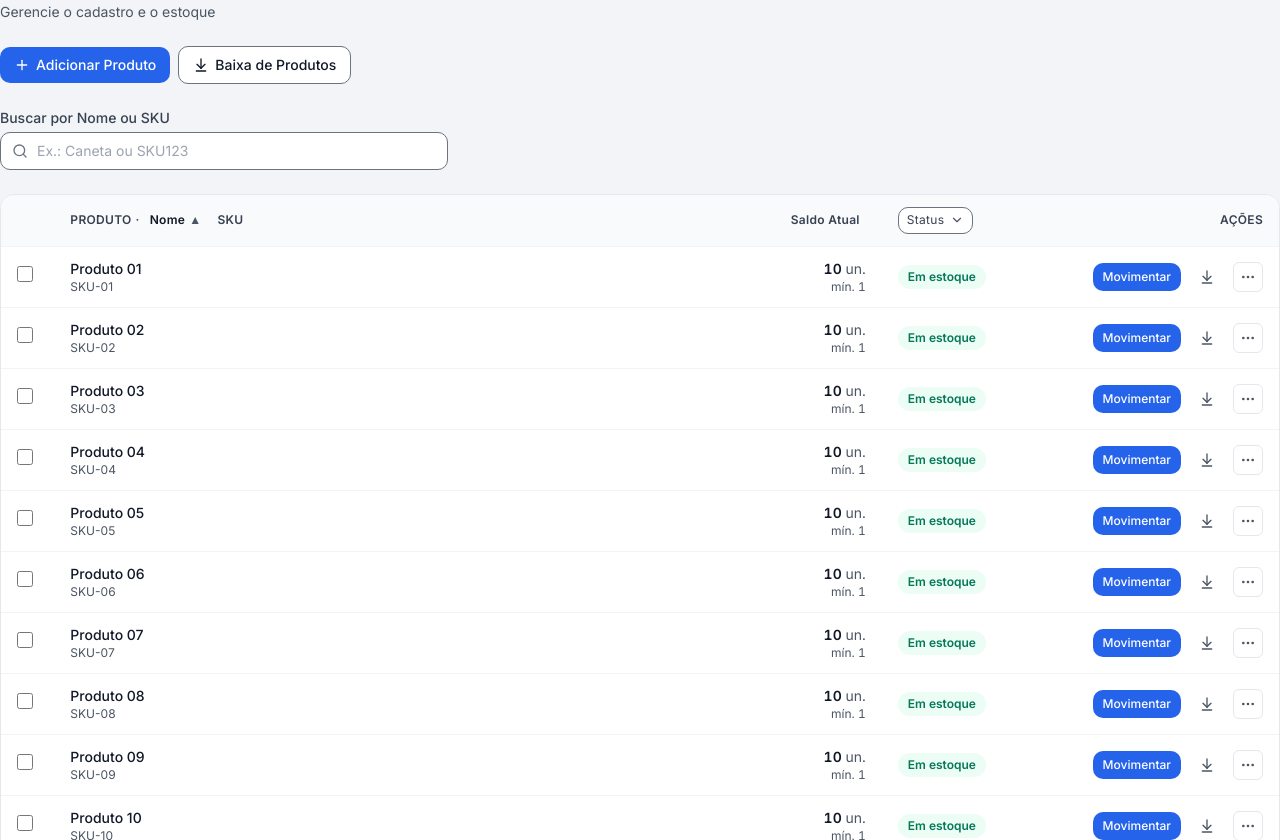
ProductDashboard — seleção não atravessa paginação (F-04) › limpa a seleção ao mudar de página e não deixa itens da página anterior alcançáveis por ação em lote
This screenshot has width=1280, height=840.
Click the checkbox named "Selecionar Produto 01" at x=25, y=274, box [17,266,33,282]
(page scrolled)
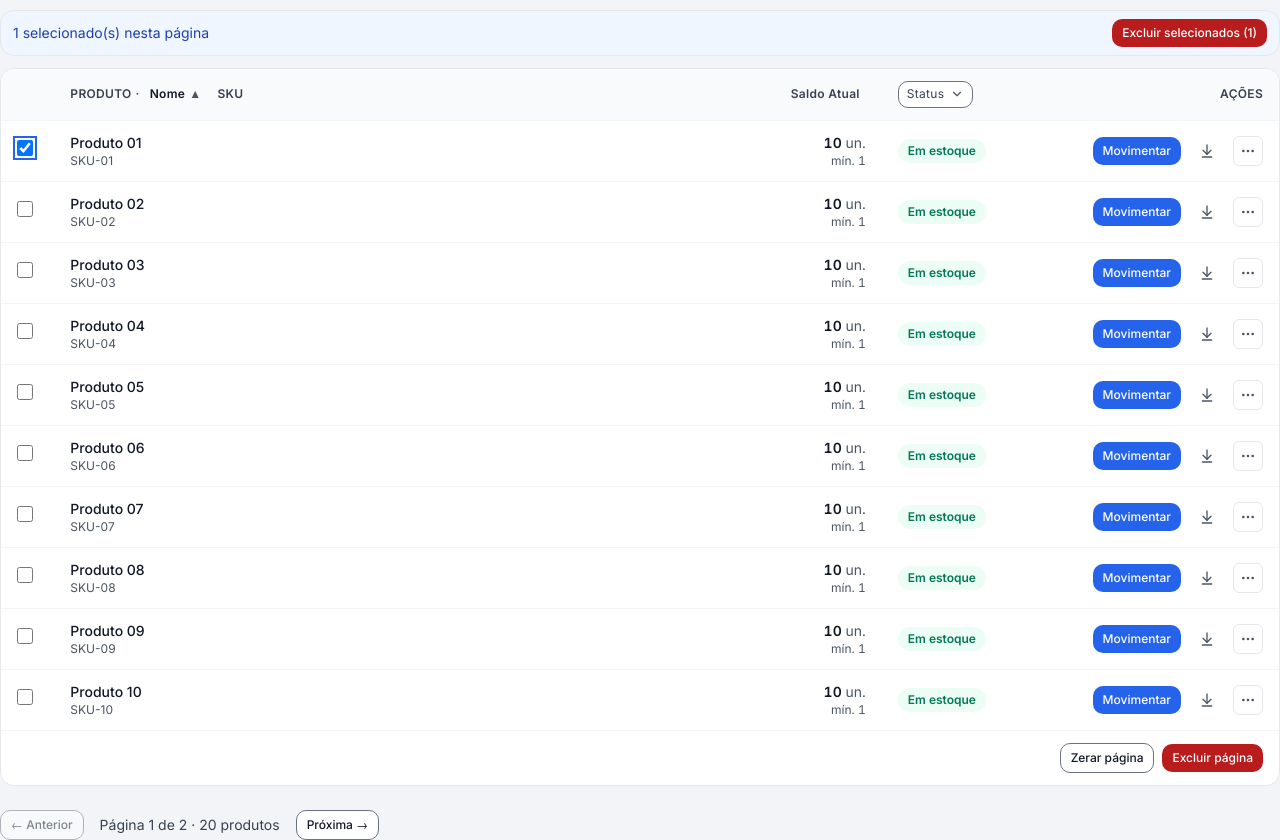
Now the checkbox named "Selecionar Produto 01" is checked, box [17,140,33,156]
Now the button "Excluir selecionados (1)" is enabled, box [1112,19,1267,47]
Click the button "Próxima →" at x=337, y=825, box [296,810,379,839]
(page scrolled)
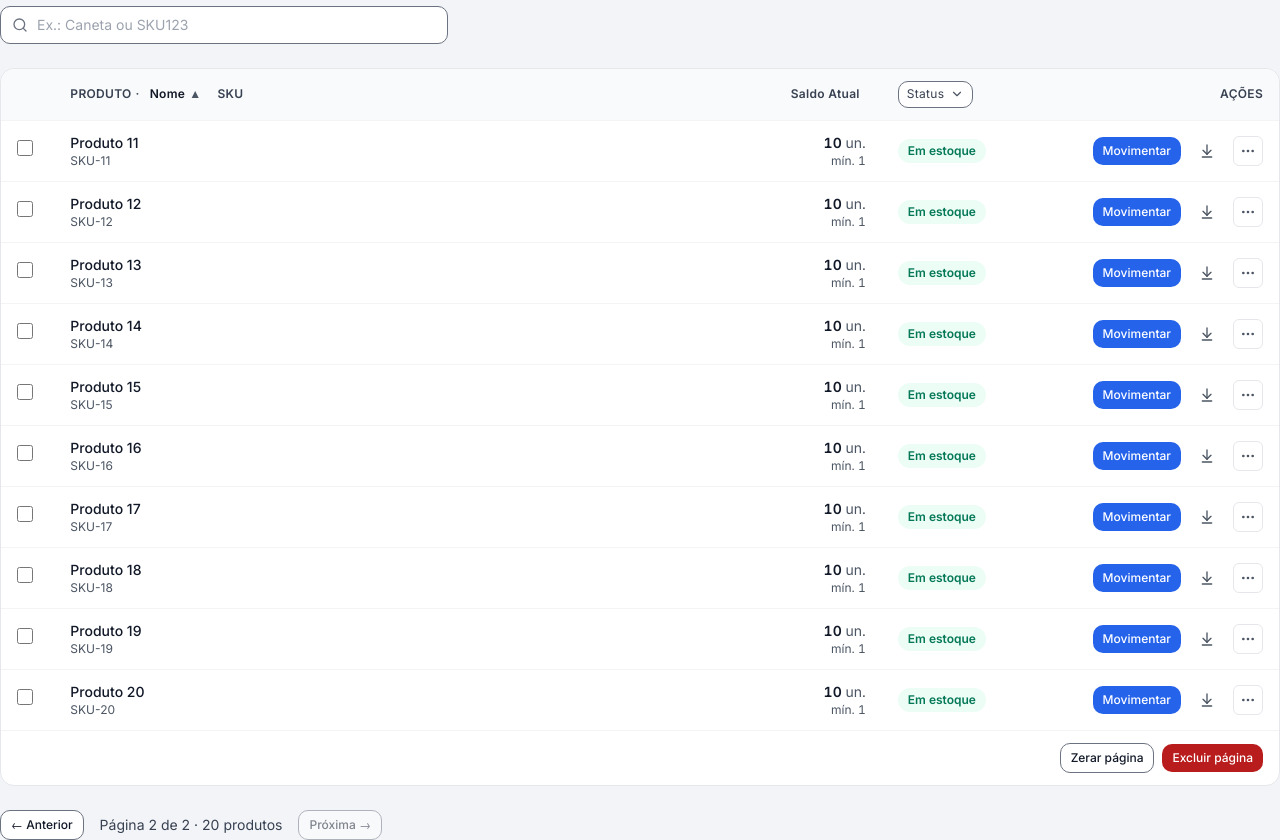
Now the text "Página 2 de 2 · 20 produtos" is shown, box [92,815,290,835]
Now the button "Excluir selecionados" is gone
